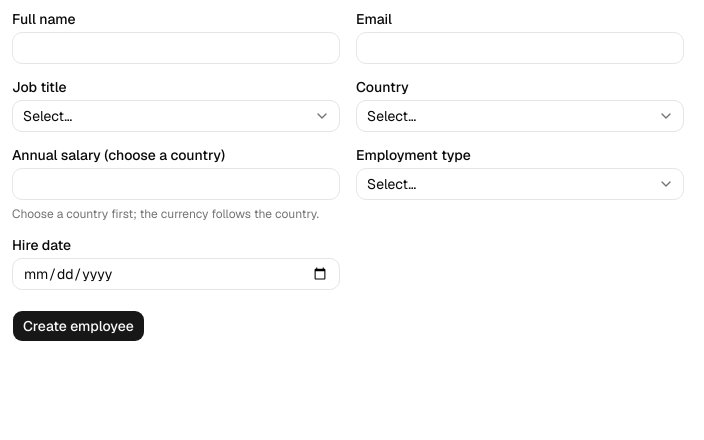
Test: EmployeeForm (create) › reports every missing required field
Click the button "Create employee".
click(78, 326)  # box [12,310,145,342]
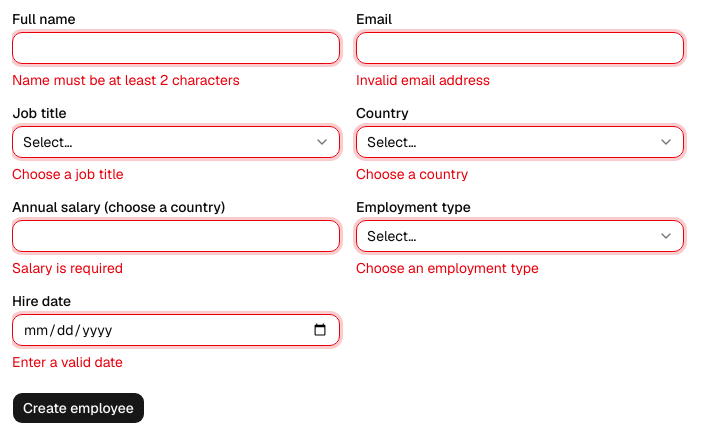
Expected: the text "Name must be at least 2 characters" is shown, [12,71,240,89]
Expected: the text "Choose a job title" is shown, [12,165,124,183]
Expected: the text "Salary is required" is shown, [12,259,123,277]
